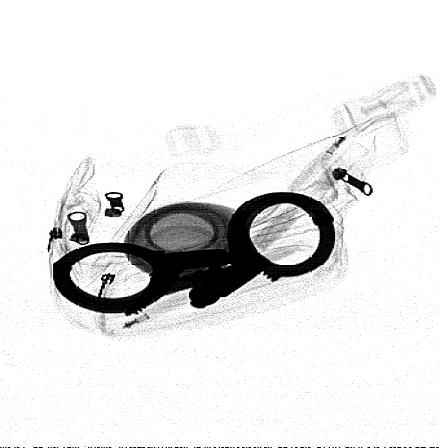HandCuffs: (52, 192, 336, 317)
